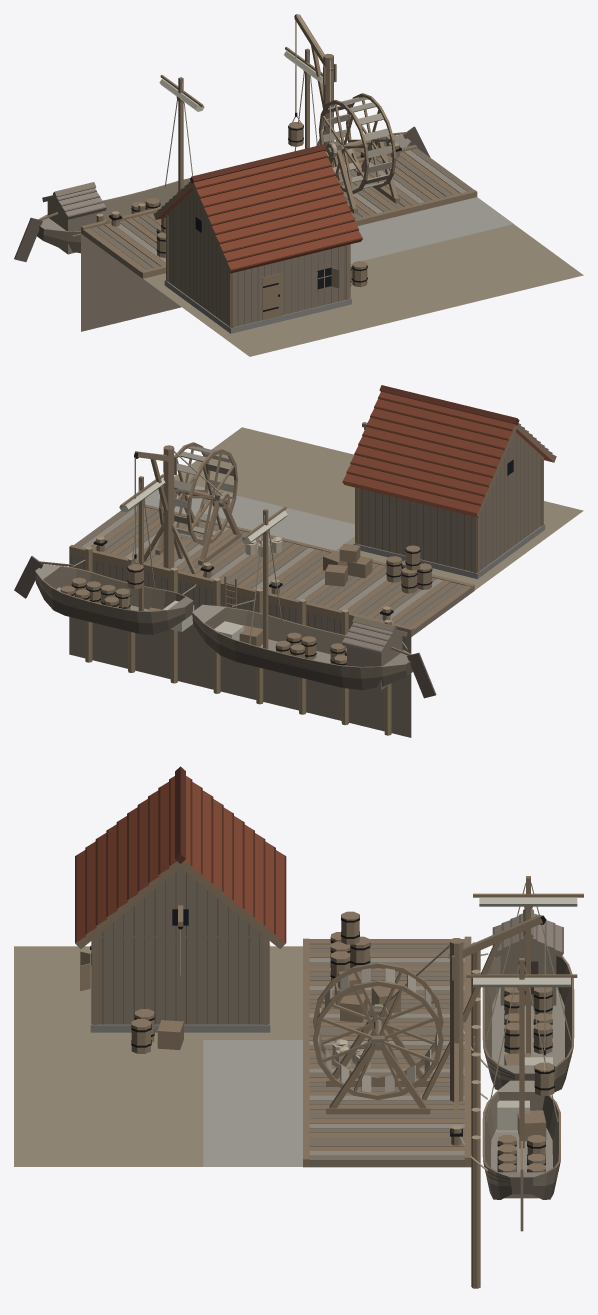
The model's file is wasser_hafen.glb.
3 views of the same model, one above another, from view 1: azimuth 30°, elevation 25°; view 2: azimuth 150°, elevation 25°; view 3: azimuth 270°, elevation 25° (orthographic). The views are drawn at different scales.
Visible parts, largest first — view 1: Hafen, Kahn1, Tretrad, Kahn2, Ausleger, Ware; view 2: Hafen, Kahn1, Kahn2, Tretrad, Ware, Ausleger; view 3: Hafen, Kahn1, Kahn2, Tretrad, Ware, Ausleger.
Part boxes in pixels (left/top/right/bottom): Hafen: left=81, top=54, right=583, bottom=356; Kahn1: left=14, top=75, right=204, bottom=261; Tretrad: left=319, top=93, right=396, bottom=194; Kahn2: left=284, top=47, right=430, bottom=164; Ausleger: left=288, top=14, right=336, bottom=146; Ware: left=156, top=217, right=367, bottom=287; Hafen: left=69, top=385, right=583, bottom=737; Kahn1: left=192, top=506, right=436, bottom=698; Kahn2: left=14, top=474, right=203, bottom=634; Tretrad: left=159, top=442, right=238, bottom=545; Ware: left=245, top=535, right=432, bottom=593; Ausleger: left=127, top=451, right=176, bottom=589; Hafen: left=14, top=766, right=480, bottom=1288; Kahn1: left=463, top=876, right=583, bottom=1092; Kahn2: left=460, top=958, right=577, bottom=1231; Tretrad: left=313, top=962, right=443, bottom=1099; Ware: left=131, top=911, right=400, bottom=1071; Ausleger: left=448, top=914, right=554, bottom=1095.
Bounding box in the file's own units: 19.84 × 10.97 × 17.45.
